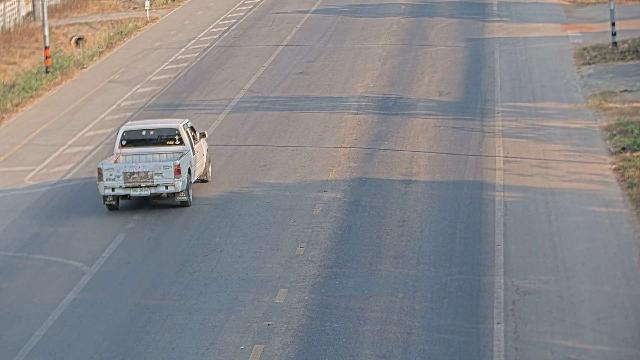pickup-truck: (96, 117, 212, 211)
